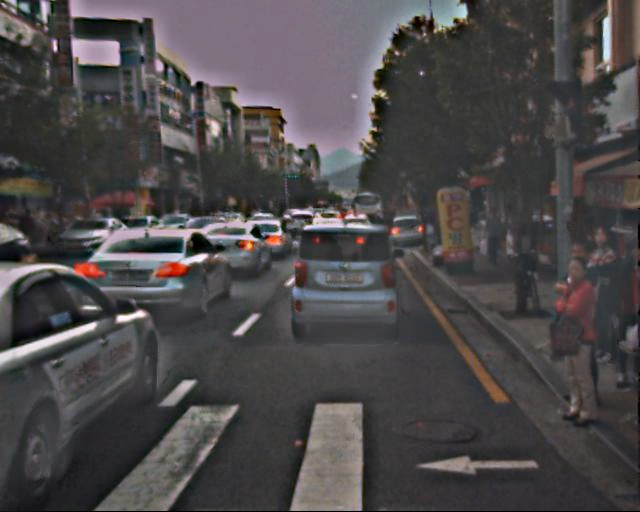person: (544, 258, 612, 425), (547, 238, 613, 399), (572, 225, 630, 366), (481, 210, 506, 272)
